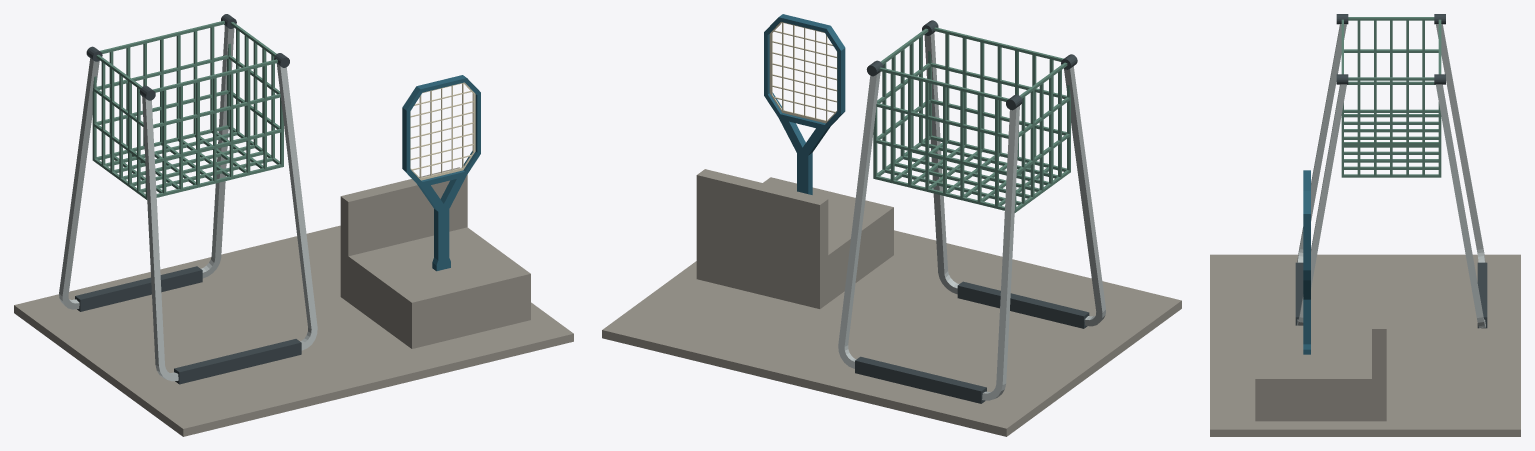
3 views of the same model, side by side, from view 1: azimuth 30°, elevation 25°; view 2: azimuth 150°, elevation 25°; view 3: azimuth 270°, elevation 25° (orthographic). The views are drawn at different scales.
Visible parts, largest first — view 1: SceneWholeFloorRaisedRacketSeatAndShortRearCurb, WholeOpenFiveSidedWireLatticeBasket, WholeFrontReturnedUStandFrame, WholeRearReturnedUStandFrame, WholeOpenThroatFrameAndLongHandle, WholeConnectedFortyEightHoleLattice, WholeFrontLongGroundSleeve, WholeRearLongGroundSleeve; view 2: SceneWholeFloorRaisedRacketSeatAndShortRearCurb, WholeOpenFiveSidedWireLatticeBasket, WholeRearReturnedUStandFrame, WholeFrontReturnedUStandFrame, WholeOpenThroatFrameAndLongHandle, WholeRearLongGroundSleeve, WholeConnectedFortyEightHoleLattice, WholeFrontLongGroundSleeve; view 3: SceneWholeFloorRaisedRacketSeatAndShortRearCurb, WholeOpenFiveSidedWireLatticeBasket, WholeRearReturnedUStandFrame, WholeFrontReturnedUStandFrame, WholeOpenThroatFrameAndLongHandle, WholeRearLongGroundSleeve, WholeFrontLongGroundSleeve.
Boxes of the visible parts, x1,y1,x2,y2 form: SceneWholeFloorRaisedRacketSeatAndShortRearCurb: [14, 167, 573, 436]; WholeOpenFiveSidedWireLatticeBasket: [92, 20, 283, 199]; WholeFrontReturnedUStandFrame: [142, 64, 317, 381]; WholeRearReturnedUStandFrame: [59, 26, 234, 309]; WholeOpenThroatFrameAndLongHandle: [402, 75, 480, 271]; WholeConnectedFortyEightHoleLattice: [410, 82, 475, 180]; WholeFrontLongGroundSleeve: [174, 339, 301, 384]; WholeRearLongGroundSleeve: [75, 266, 202, 311]; SceneWholeFloorRaisedRacketSeatAndShortRearCurb: [602, 169, 1181, 436]; WholeOpenFiveSidedWireLatticeBasket: [873, 27, 1070, 212]; WholeRearReturnedUStandFrame: [838, 72, 1019, 400]; WholeFrontReturnedUStandFrame: [924, 33, 1105, 326]; WholeOpenThroatFrameAndLongHandle: [764, 14, 845, 194]; WholeRearLongGroundSleeve: [855, 356, 986, 403]; WholeConnectedFortyEightHoleLattice: [769, 22, 837, 123]; WholeFrontLongGroundSleeve: [957, 281, 1089, 328]; SceneWholeFloorRaisedRacketSeatAndShortRearCurb: [1210, 254, 1520, 436]; WholeOpenFiveSidedWireLatticeBasket: [1341, 17, 1441, 177]; WholeRearReturnedUStandFrame: [1436, 24, 1485, 328]; WholeFrontReturnedUStandFrame: [1296, 24, 1346, 325]; WholeOpenThroatFrameAndLongHandle: [1303, 170, 1310, 354]; WholeRearLongGroundSleeve: [1477, 262, 1487, 328]; WholeFrontLongGroundSleeve: [1295, 262, 1303, 325].
Size of the model in its own units: 1.28 by 0.899 by 0.96.
